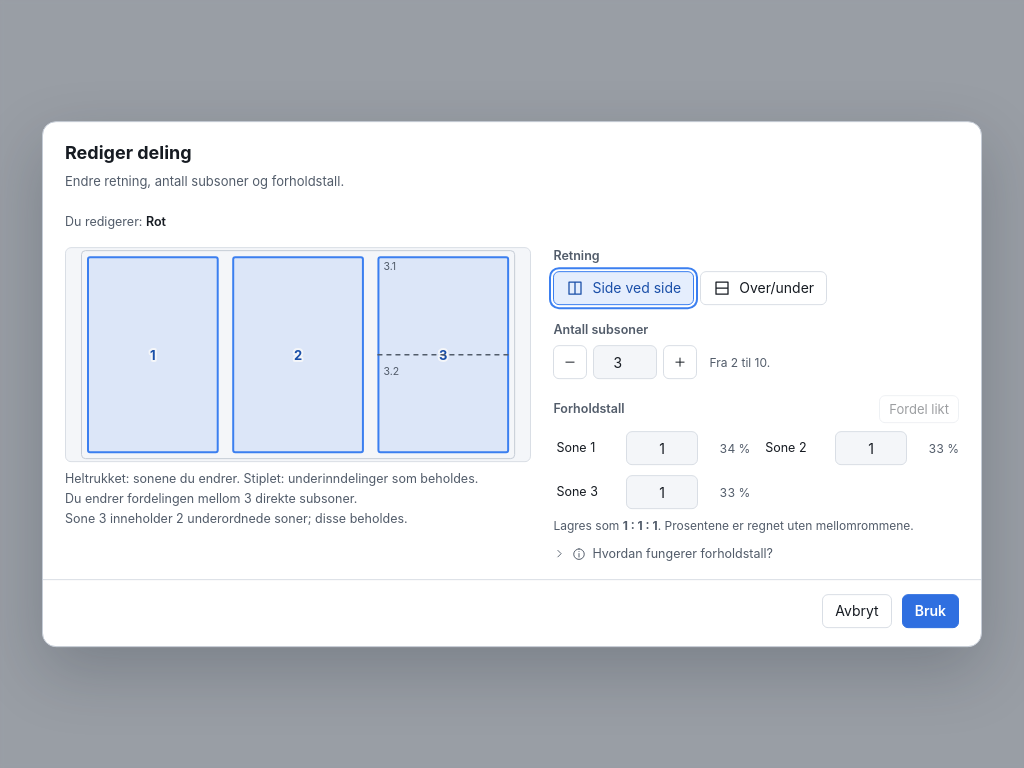
Scenario: SplitModal as a draft › asks once more, with the count, before deleting — and can rescue instead
The width and height of the screenshot is (1024, 768).
Later steps or results of the test are not shown.
Click the button named "Færre subsoner" at (570, 362), box [553,346,587,380]
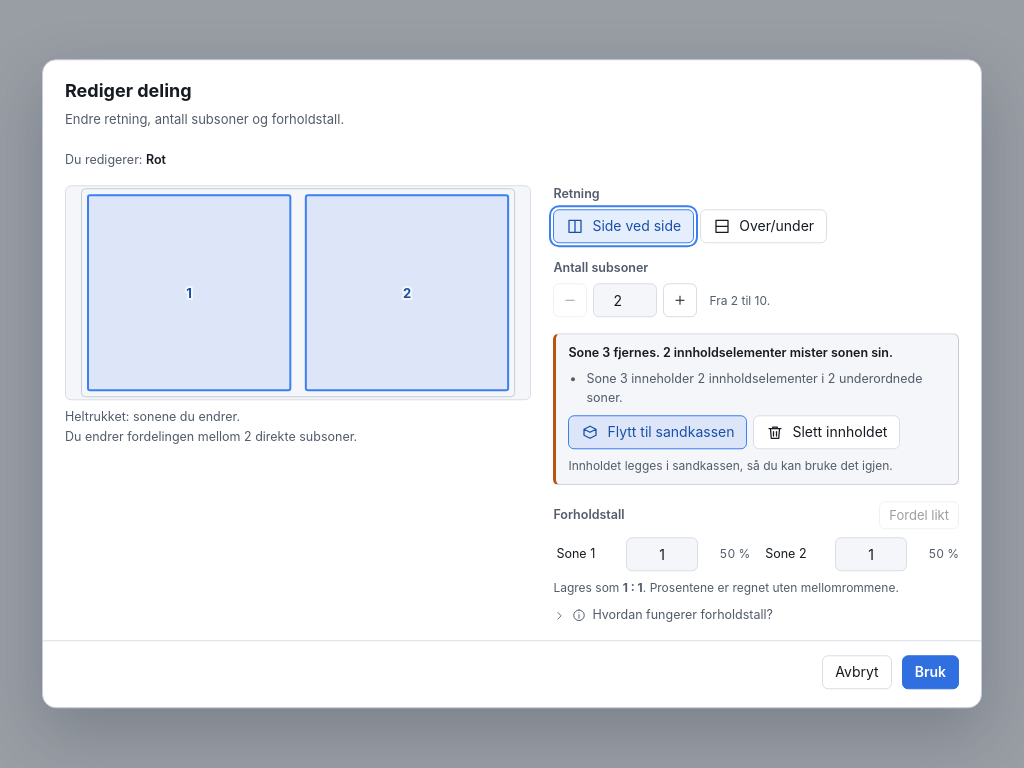
Click the button "Bruk" at (930, 673), box [902,656,959,690]
Click the radio button labelled "Slett innholdet" at (827, 432), box [754,415,900,449]
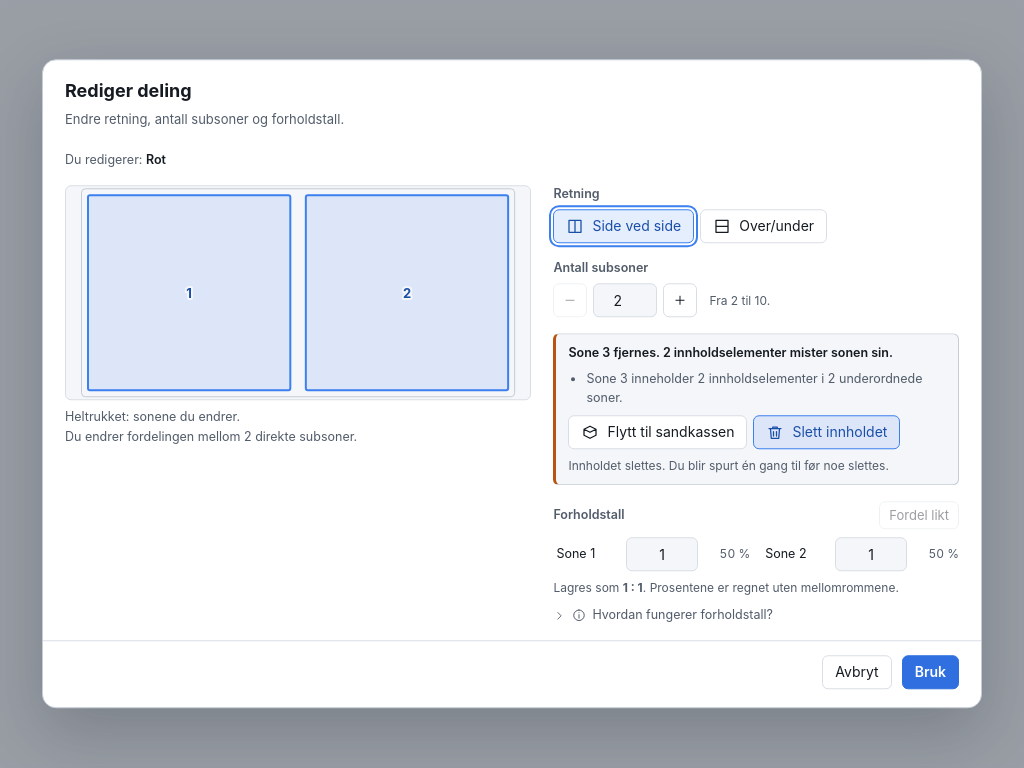
Click the button "Bruk" at (930, 673), box [902,656,959,690]
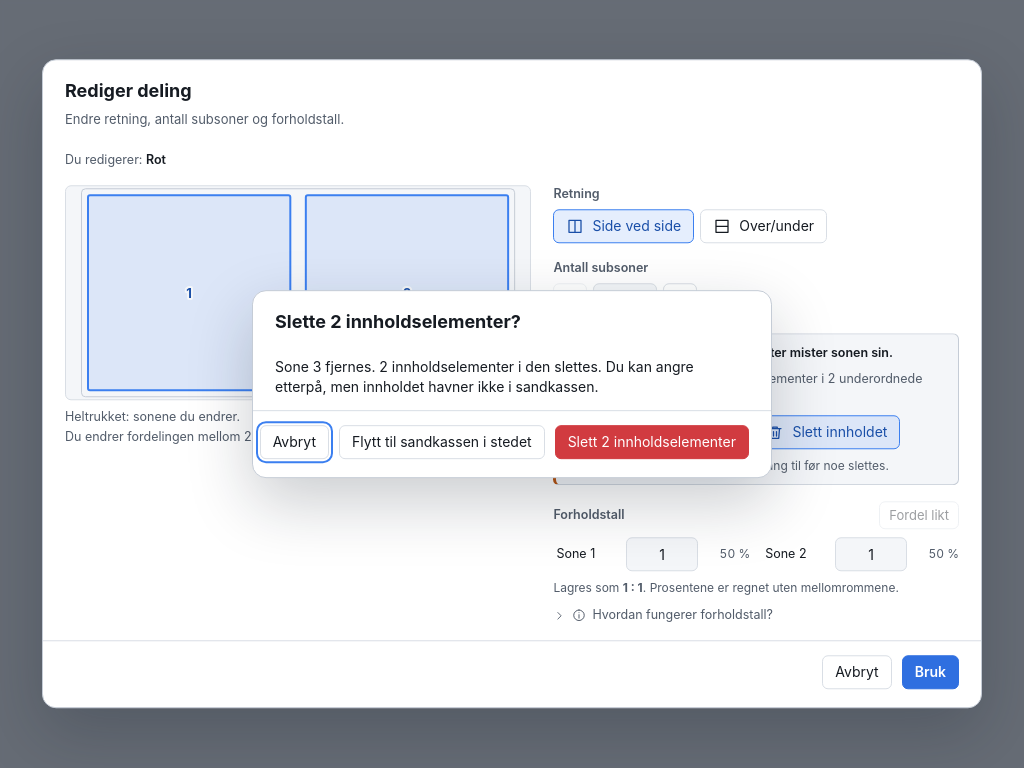
Expected: the text "Sone 3 fjernes." is shown, [568,346,660,361]
Expected: the text "Slette 2 innholdselementer?" is shown, [275,311,521,332]
